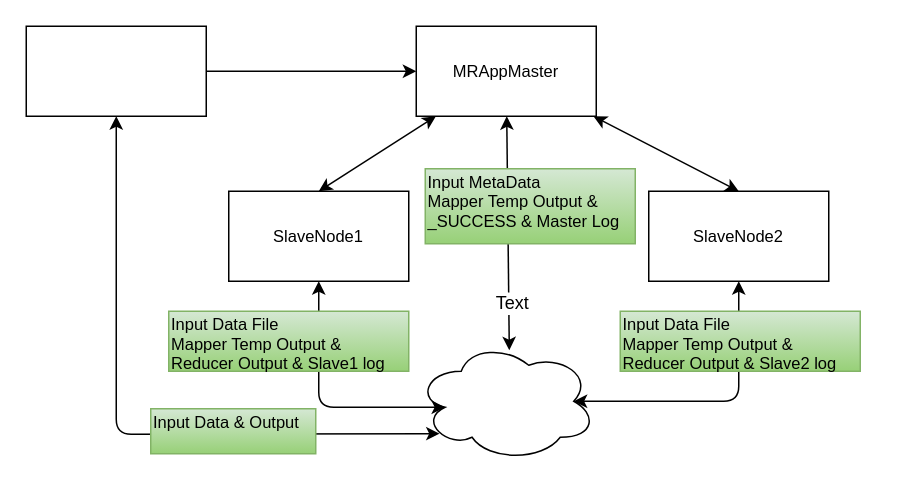
Some shapes in this 915 by 488 pixel diagram are drawn without their labels. The shapes that lost their labels are listed below. From the top down, each one's box as (x1, y1, x2, y2) in pixels, then its label:
(25, 25, 206, 116): Machine that Runs Pass API based Program
(415, 340, 596, 461): S3
